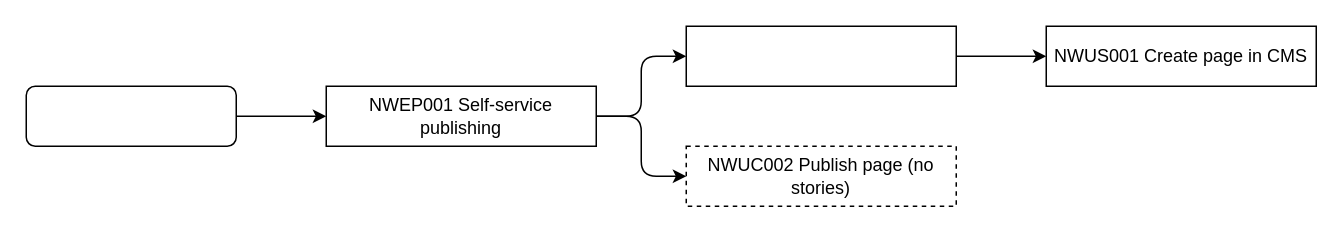
Some shapes in this 1343 by 233 pixel diagram are drawn without their labels. Each missing label, with the box of its shape:
NW New Website: (25, 85, 236, 146)
NWUC001 Create page: (685, 25, 956, 86)
